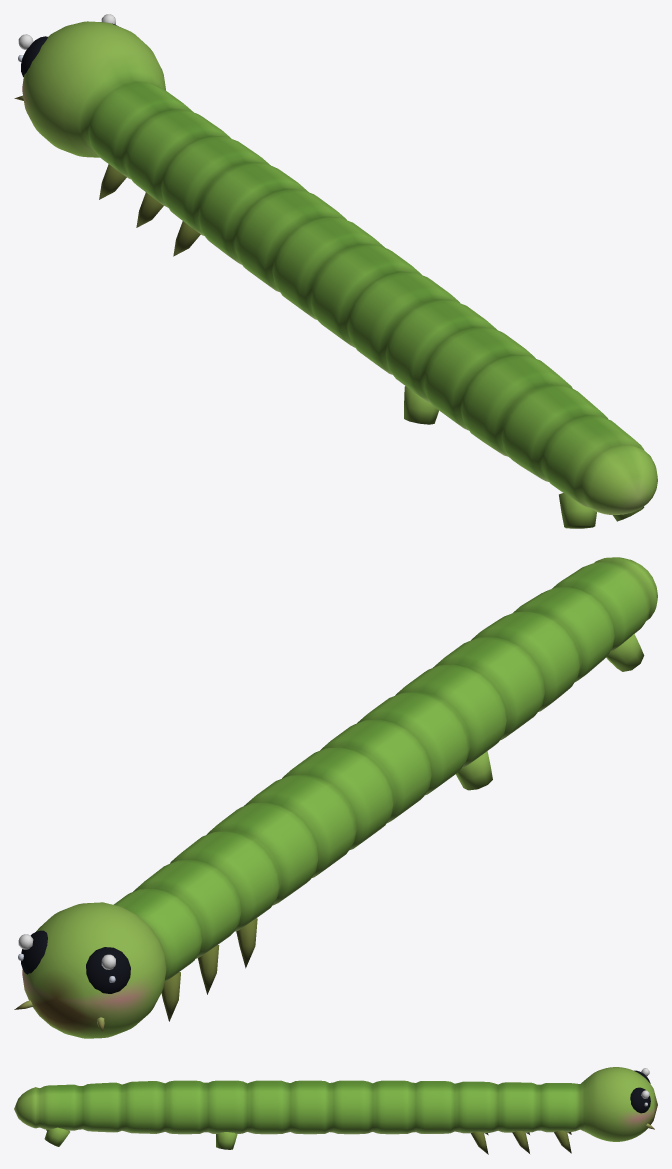
Rendered from Inchworm.fbx.
The picture shows the model from 3 angles, top to bottom: view 1: azimuth 30°, elevation 25°; view 2: azimuth 150°, elevation 25°; view 3: azimuth 270°, elevation 25°; orthographic projection. The views are drawn at different scales.
Visible parts, largest first — view 1: Inchworm; view 2: Inchworm; view 3: Inchworm.
Boxes of the visible parts, <box> form: Inchworm: <box>14,14,657,528</box>; Inchworm: <box>14,557,657,1038</box>; Inchworm: <box>14,1067,657,1154</box>.
Bounding box in the file's own units: 0.1217 × 0.1269 × 1.
